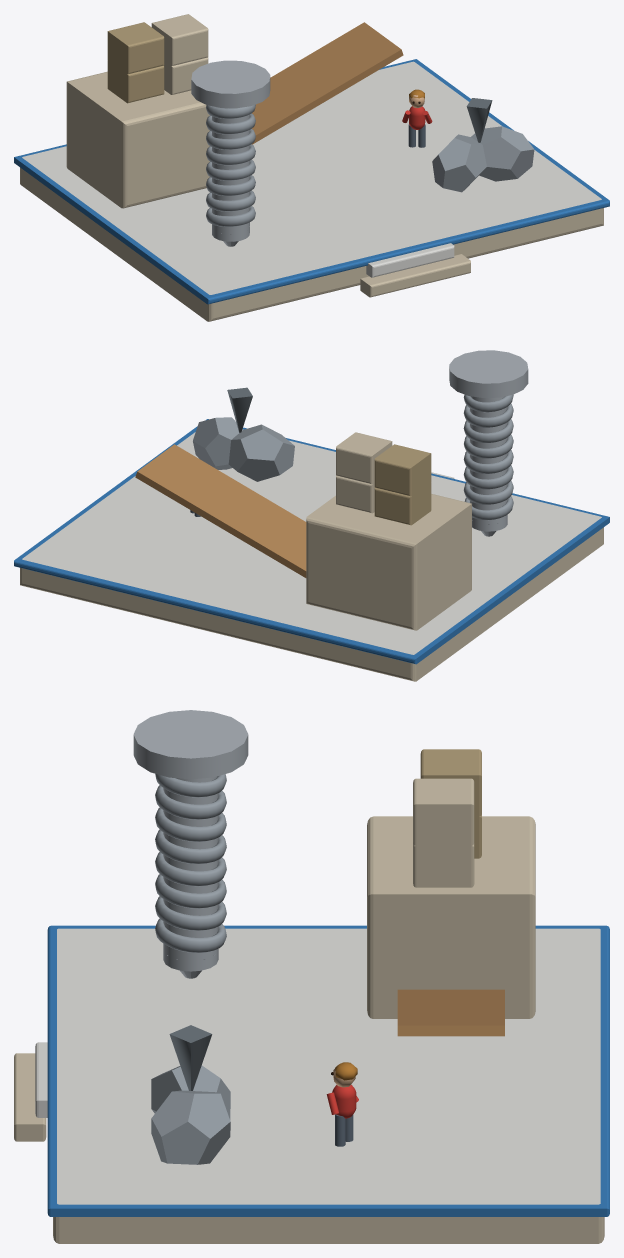
File: builders.glb
3 renders of one model, top to bottom at view 1: azimuth 30°, elevation 25°; view 2: azimuth 150°, elevation 25°; view 3: azimuth 270°, elevation 25°, orthographic. The views are drawn at different scales.
Parts seen in each view (by area): view 1: part_000; view 2: part_000; view 3: part_000.
Boxes of the visible parts, left/top/right/bottom form: part_000: left=14, top=14, right=609, bottom=321; part_000: left=14, top=350, right=609, bottom=681; part_000: left=14, top=710, right=609, bottom=1243.
Bounding box in the file's own units: 8.74 × 4.37 × 7.78.
